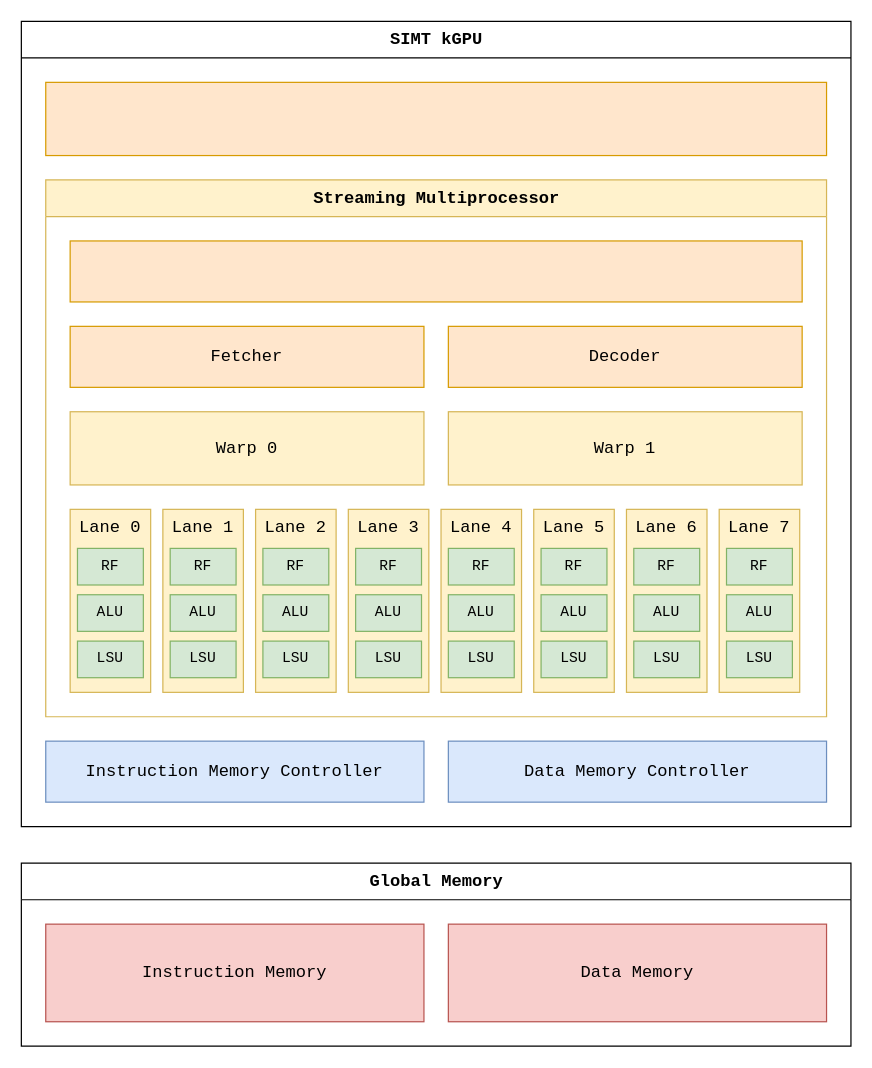
The diagram is 872 pixels wide and 1068 high, and some of its shapes have lost their labels. Each missing label, with the centre of its shape:
"Dispatcher" goes at point 436,118.
"Warp Scheduler / Control Unit" goes at point 435,271.
